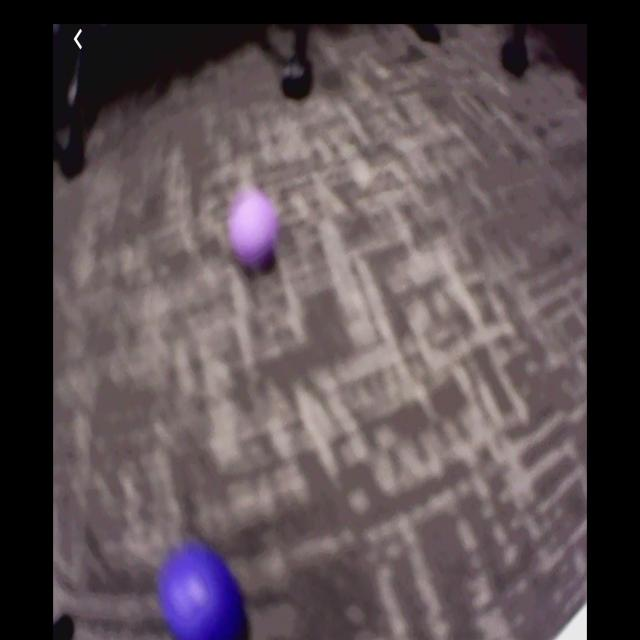ball: (160, 543, 239, 640), (226, 190, 277, 267)
